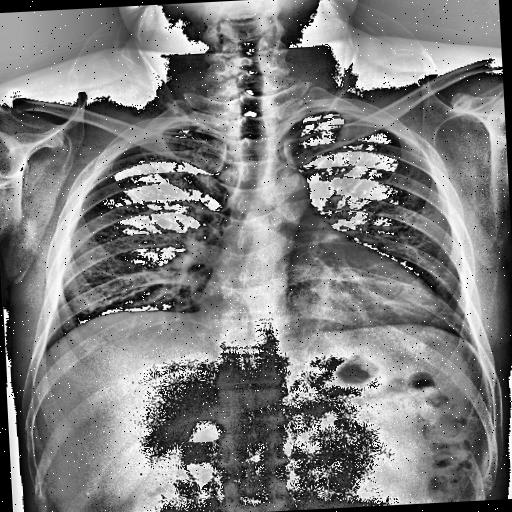3- Cardiomegaly: (194, 253, 448, 338), (193, 264, 442, 341), (196, 266, 446, 340)
